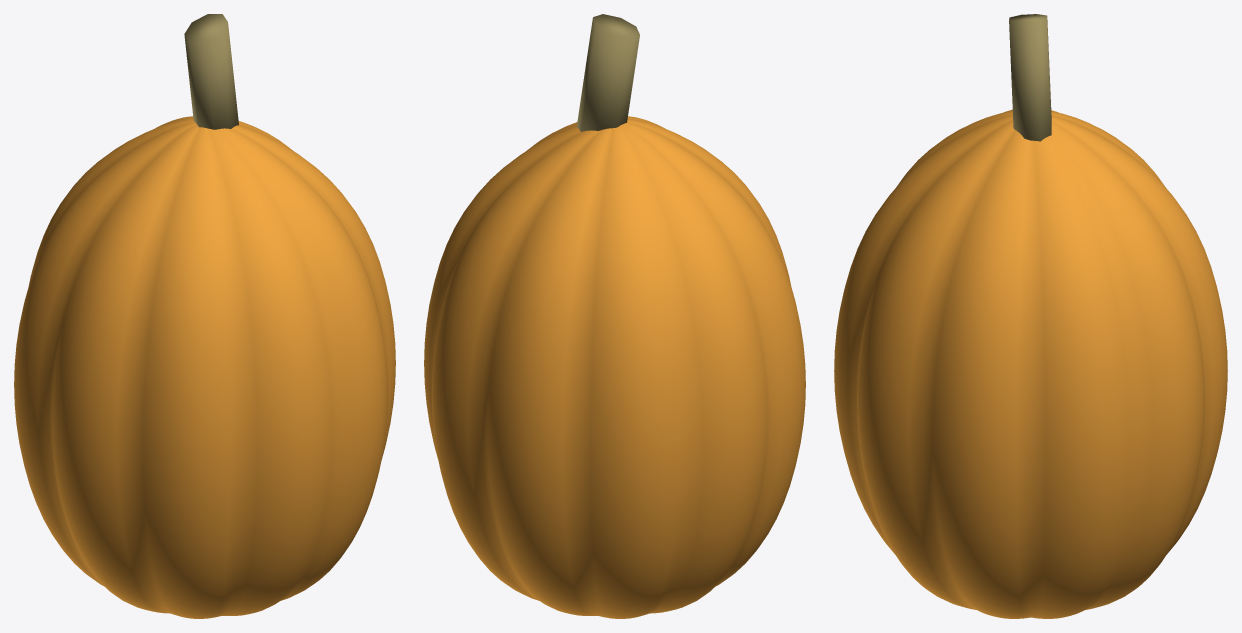
The model's file is pumpkin.glb.
3 views of the same model, side by side, from view 1: azimuth 30°, elevation 25°; view 2: azimuth 150°, elevation 25°; view 3: azimuth 270°, elevation 25° (orthographic).
Parts seen in each view (by area): view 1: Sphere.001, Cylinder.001; view 2: Sphere.001, Cylinder.001; view 3: Sphere.001, Cylinder.001.
Boxes of the visible parts, x1=… form: Sphere.001: x1=14, y1=116, x2=395, y2=618; Cylinder.001: x1=184, y1=14, x2=238, y2=129; Sphere.001: x1=424, y1=116, x2=805, y2=618; Cylinder.001: x1=576, y1=14, x2=639, y2=131; Sphere.001: x1=834, y1=109, x2=1227, y2=618; Cylinder.001: x1=1009, y1=14, x2=1051, y2=141.
Size of the model in its own units: 6.39 by 10.83 by 6.6.
